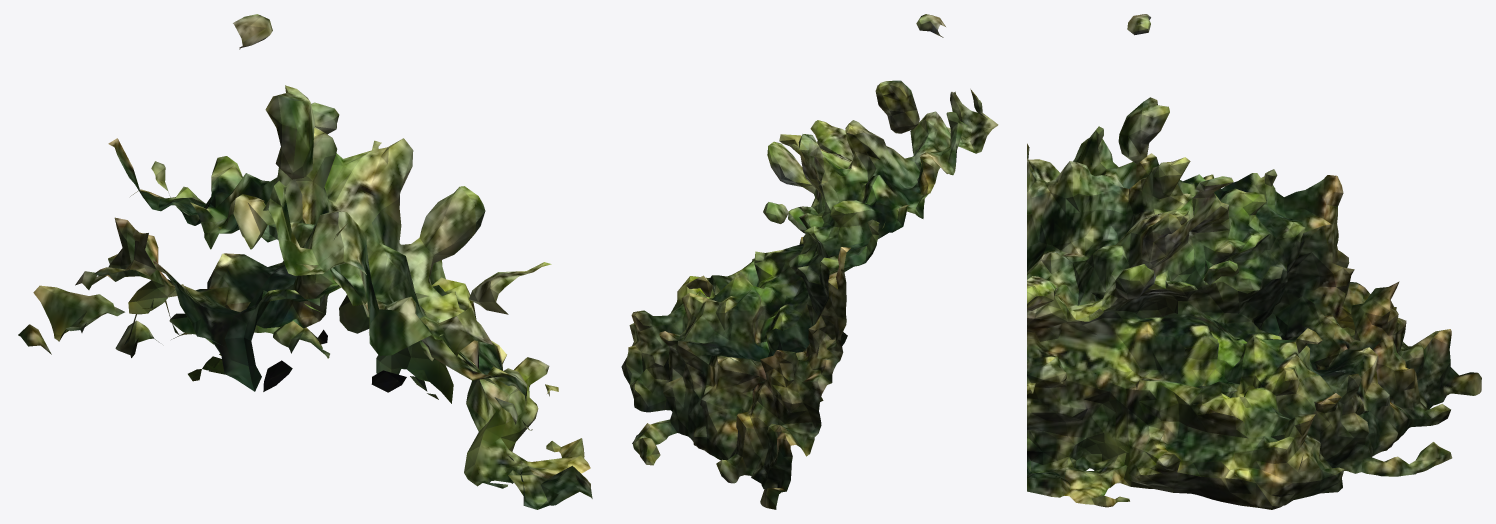
3 renders of one model, left to right at view 1: azimuth 30°, elevation 25°; view 2: azimuth 150°, elevation 25°; view 3: azimuth 270°, elevation 25°, orthographic. The views are drawn at different scales.
Size of the model in its own units: 2.09 by 2.89 by 3.16.
Materials: 3 (3 with a texture image).
